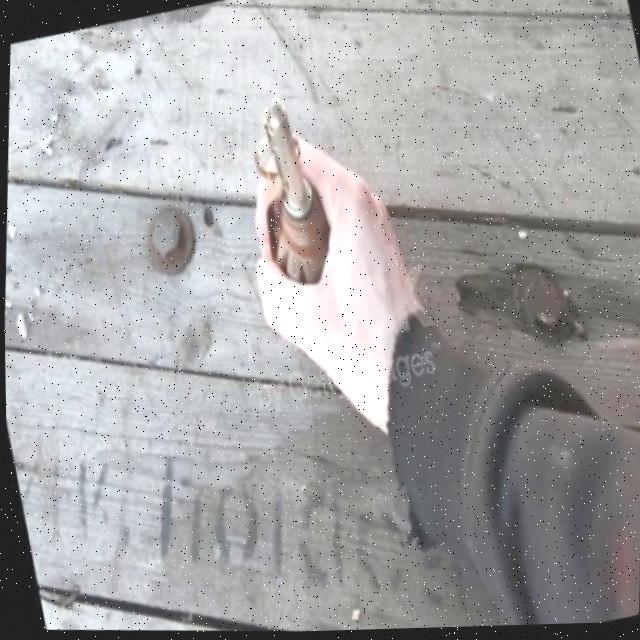grenade: (233, 73, 345, 293)
